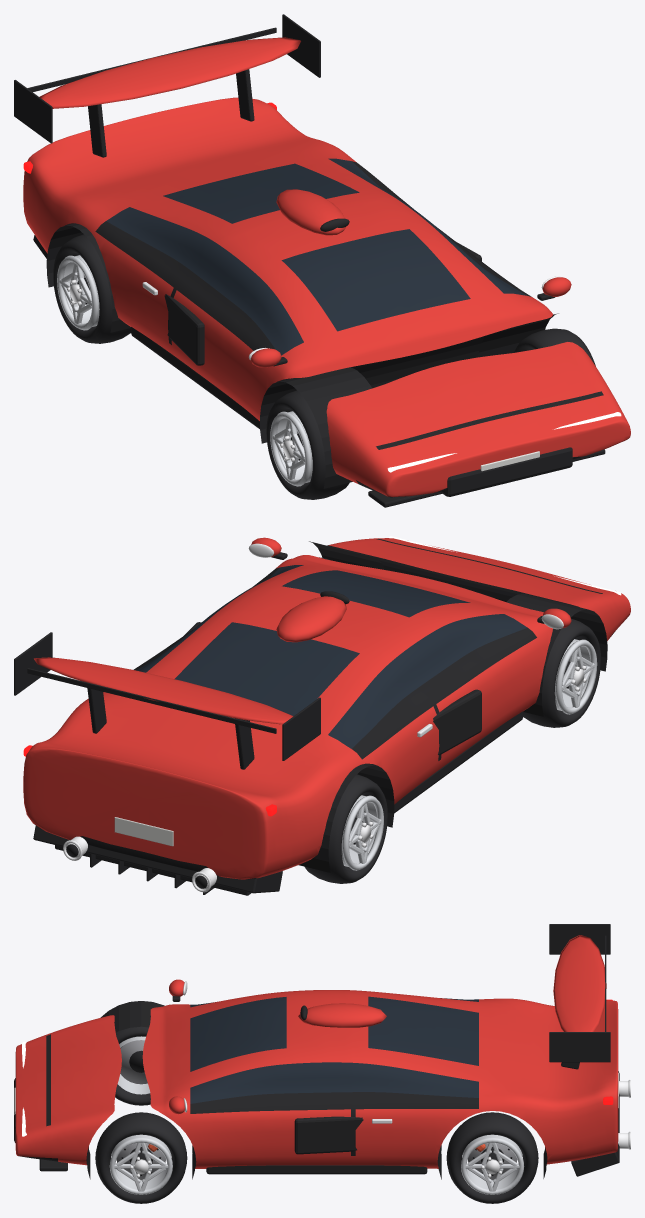
File: phantom_mid.glb
The picture shows the model from 3 angles, top to bottom: view 1: azimuth 30°, elevation 25°; view 2: azimuth 150°, elevation 25°; view 3: azimuth 270°, elevation 25°; orthographic projection. The views are drawn at different scales.
Visible parts, largest first — view 1: body, wheel_fr, wheel_rr, wheel_fl; view 2: body, wheel_rr, wheel_fr; view 3: body, wheel_rl, wheel_fl, wheel_fr.
Boxes of the visible parts, <box> form: body: <box>14,14,630,507</box>; wheel_fr: <box>266,390,349,499</box>; wheel_rr: <box>53,234,130,343</box>; wheel_fl: <box>514,328,595,366</box>; body: <box>14,536,630,895</box>; wheel_rr: <box>305,774,387,883</box>; wheel_fr: <box>523,618,600,727</box>; body: <box>14,924,630,1179</box>; wheel_rl: <box>446,1112,538,1203</box>; wheel_fl: <box>95,1112,187,1203</box>; wheel_fr: <box>115,1026,150,1105</box>.
Bounding box in the file's own units: 2.37 × 1.49 × 4.83.
